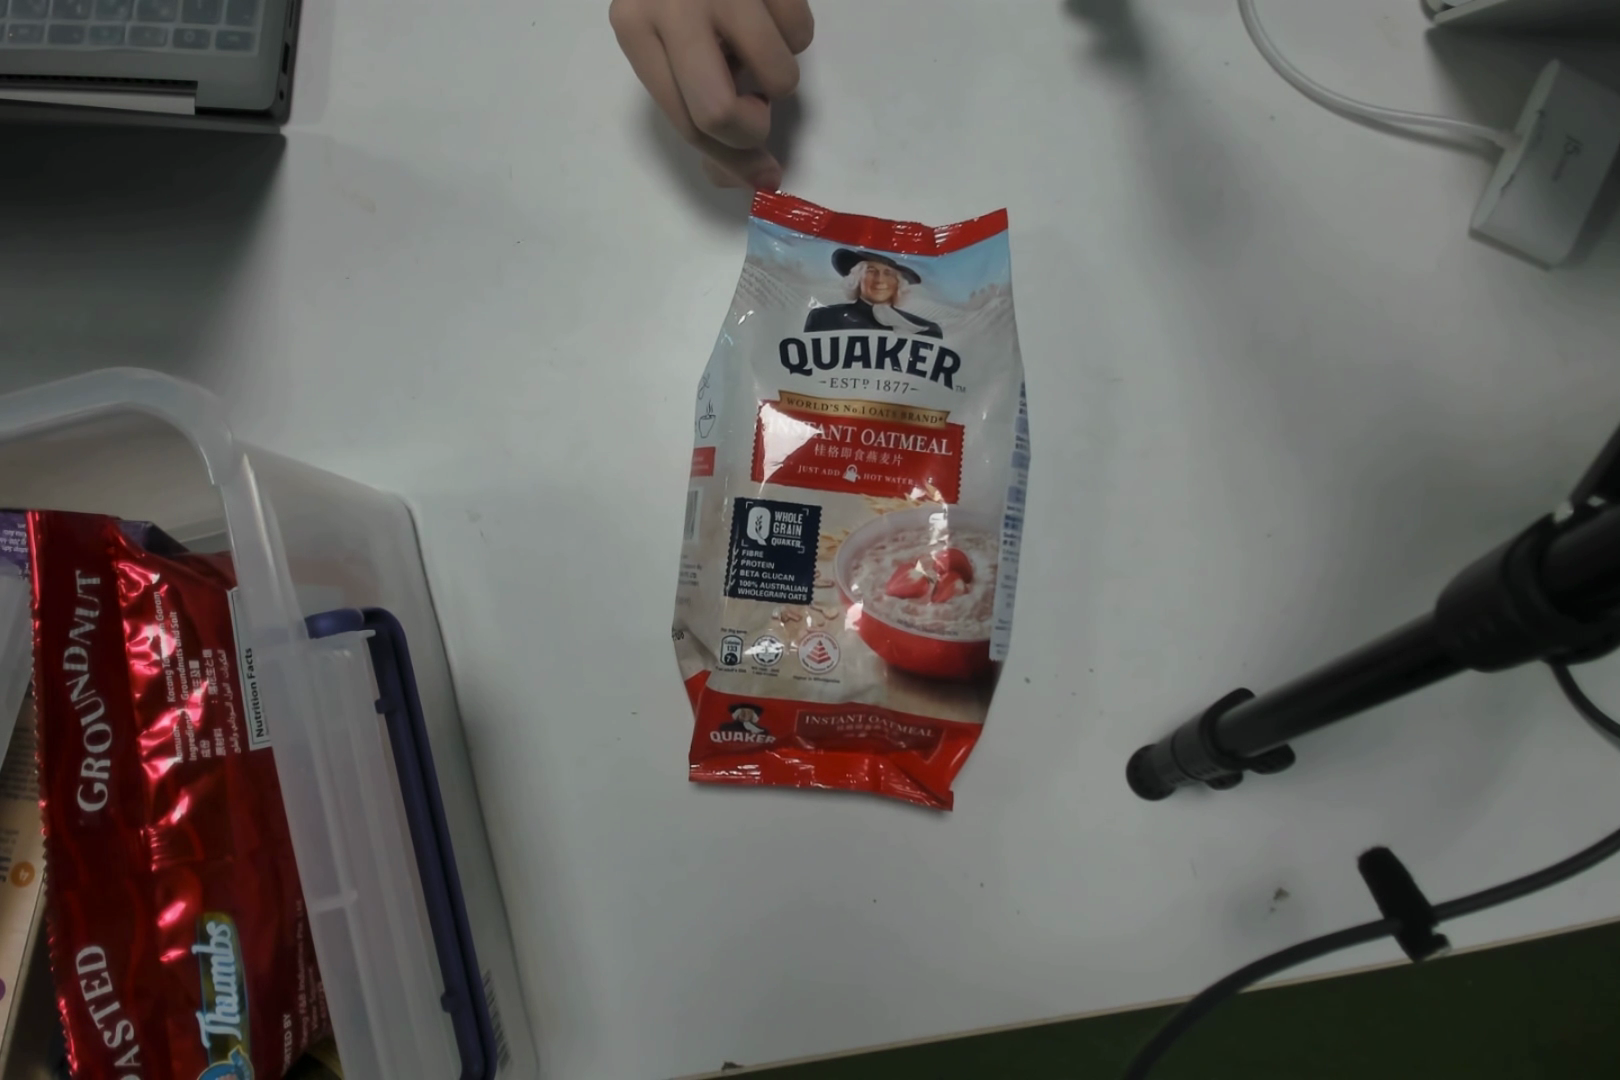RolledOatsInstantOatmeal_400-499g_Halal_Healthy: (663, 171, 1020, 787)
